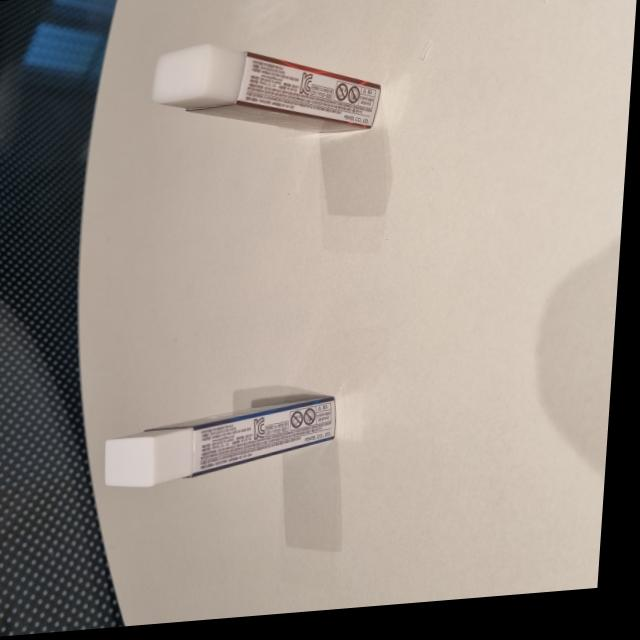blue: (106, 393, 345, 496)
red: (145, 31, 385, 150)
